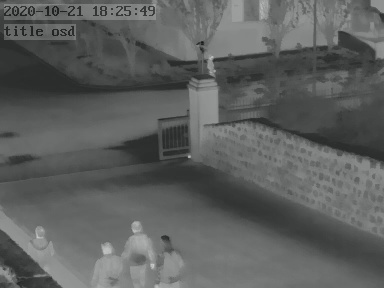person: (122, 220, 156, 288), (90, 238, 120, 288), (155, 236, 182, 288), (27, 224, 52, 270), (205, 55, 216, 78)
